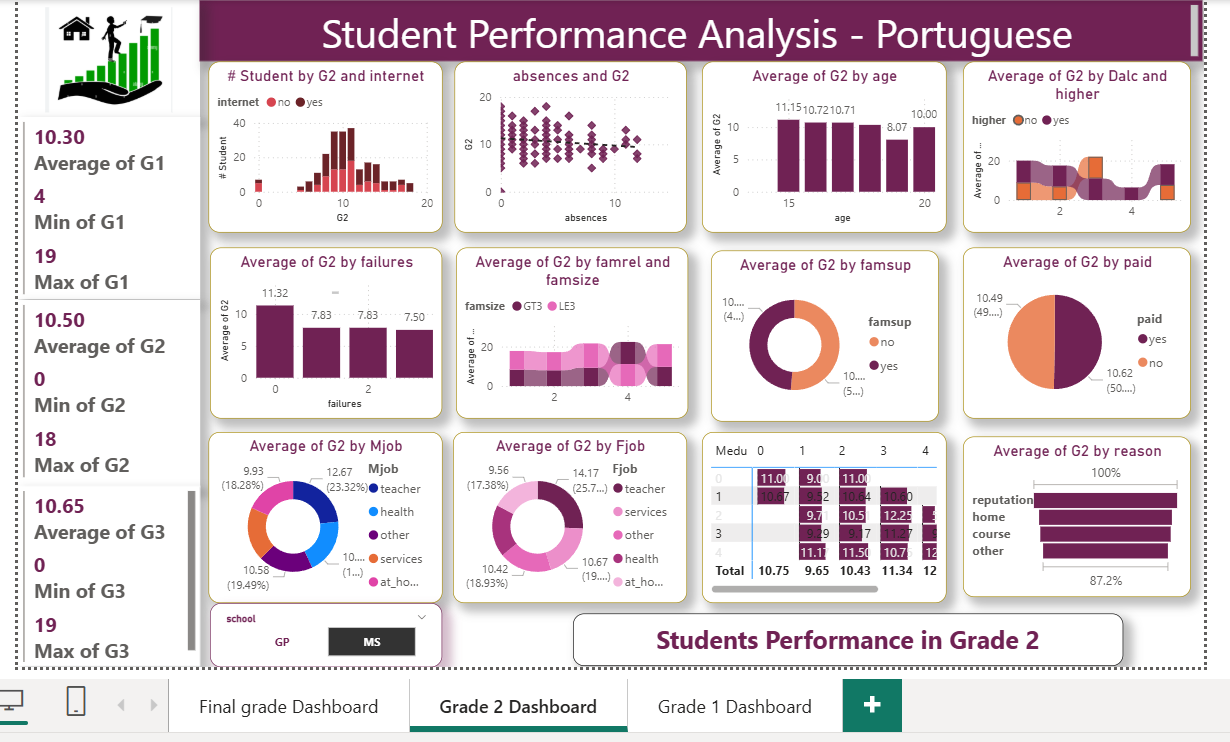

The page's visual inventory and layout, read from the dashboard file:
{"tool":"powerbi","page":{"name":"Grade 2 Dashboard","canvas":[1280,720],"ordinal":1},"visuals":[{"type":"textbox","box":[196.5,0,1082.8,66.1],"z":0},{"type":"image","box":[0,0,196.5,126.6],"z":1000},{"type":"multiRowCard","fields":{"Values":["Avg(student-por.G1)1","Min(student-por.G1)","Max(student-por.G1)"]},"box":[0,126.6,196.5,196.5],"z":2000},{"type":"multiRowCard","fields":{"Values":["Avg(student-por.G2)","Min(student-por.G2)","Max(student-por.G2)"]},"box":[0,323.2,196.5,202.2],"z":3000},{"type":"multiRowCard","fields":{"Values":["Avg(student-por.G3)","Min(student-por.G3)","Max(student-por.G3)1"]},"box":[0,525.4,196.5,194.6],"z":4000},{"type":"columnChart","fields":{"Category":["student-por.G2"],"Y":["student-por.# Student"],"Series":["student-por.internet"]},"box":[205.6,66.4,252.6,184.6],"z":5000},{"type":"scatterChart","fields":{"X":["student-por.absences"],"Y":["student-por.G2"]},"box":[471.2,66.4,251,184.6],"z":6000},{"type":"columnChart","fields":{"Category":["student-por.age"],"Y":["Avg(student-por.G2)"]},"box":[738.4,66.4,263.9,184.6],"z":7000},{"type":"ribbonChart","fields":{"Category":["student-por.Dalc"],"Series":["student-por.higher"],"Y":["Avg(student-por.G2)"]},"box":[1020.1,66.4,246.1,184.6],"z":8000},{"type":"clusteredColumnChart","fields":{"Category":["student-por.failures"],"Y":["Avg(student-por.G2)"]},"box":[207.3,267.2,251,184.6],"z":9000},{"type":"ribbonChart","fields":{"Category":["student-por.famrel"],"Series":["student-por.famsize"],"Y":["Avg(student-por.G2)"]},"box":[472.8,267.2,251,184.6],"z":10000},{"type":"donutChart","fields":{"Category":["student-por.famsup"],"Y":["Avg(student-por.G2)"]},"box":[748.1,270.4,246.1,184.6],"z":11000},{"type":"pieChart","fields":{"Y":["Avg(student-por.G2)"],"Category":["student-por.paid"]},"box":[1020.1,267.2,246.1,184.6],"z":12000},{"type":"donutChart","fields":{"Y":["Avg(student-por.G2)"],"Category":["student-por.Mjob"]},"box":[205.6,466.3,252.6,184.6],"z":13000},{"type":"donutChart","fields":{"Y":["Avg(student-por.G2)"],"Category":["student-por.Fjob"]},"box":[469.6,466.3,252.6,184.6],"z":14000},{"type":"pivotTable","fields":{"Rows":["student-por.Medu"],"Columns":["student-por.Fedu"],"Values":["Avg(student-por.G2)"]},"box":[738.4,466.3,263.9,184.6],"z":15000},{"type":"funnel","fields":{"Category":["student-por.reason"],"Y":["Avg(student-por.G2)"]},"box":[1020.1,471.2,246.1,173.3],"z":16000},{"type":"slicer","fields":{"Values":["student-por.school"]},"box":[207.3,650.9,251,69.6],"z":17000},{"type":"textbox","box":[333.6,309.3,17.8,13],"z":18000},{"type":"textbox","box":[599.1,662.3,594.3,56.7],"z":19000}]}

Visuals, with their boxes on the page's 1280x720 design canvas (x1, y1, x2, y2). These are canvas units, not pixel positions in the 1230x742 screenshot, which may show the page scaled, cropped or inside an application window:
textbox: 196/0/1279/66
image: 0/0/196/127
multiRowCard - Avg(student-por.G1)1 x Min(student-por.G1): 0/127/196/323
multiRowCard - Avg(student-por.G2) x Min(student-por.G2): 0/323/196/525
multiRowCard - Avg(student-por.G3) x Min(student-por.G3): 0/525/196/720
columnChart - student-por.G2 x student-por.# Student: 206/66/458/251
scatterChart - student-por.absences x student-por.G2: 471/66/722/251
columnChart - student-por.age x Avg(student-por.G2): 738/66/1002/251
ribbonChart - student-por.Dalc x student-por.higher: 1020/66/1266/251
clusteredColumnChart - student-por.failures x Avg(student-por.G2): 207/267/458/452
ribbonChart - student-por.famrel x student-por.famsize: 473/267/724/452
donutChart - student-por.famsup x Avg(student-por.G2): 748/270/994/455
pieChart - Avg(student-por.G2) x student-por.paid: 1020/267/1266/452
donutChart - Avg(student-por.G2) x student-por.Mjob: 206/466/458/651
donutChart - Avg(student-por.G2) x student-por.Fjob: 470/466/722/651
pivotTable - student-por.Medu x student-por.Fedu: 738/466/1002/651
funnel - student-por.reason x Avg(student-por.G2): 1020/471/1266/644
slicer - student-por.school: 207/651/458/720
textbox: 334/309/351/322
textbox: 599/662/1193/719
